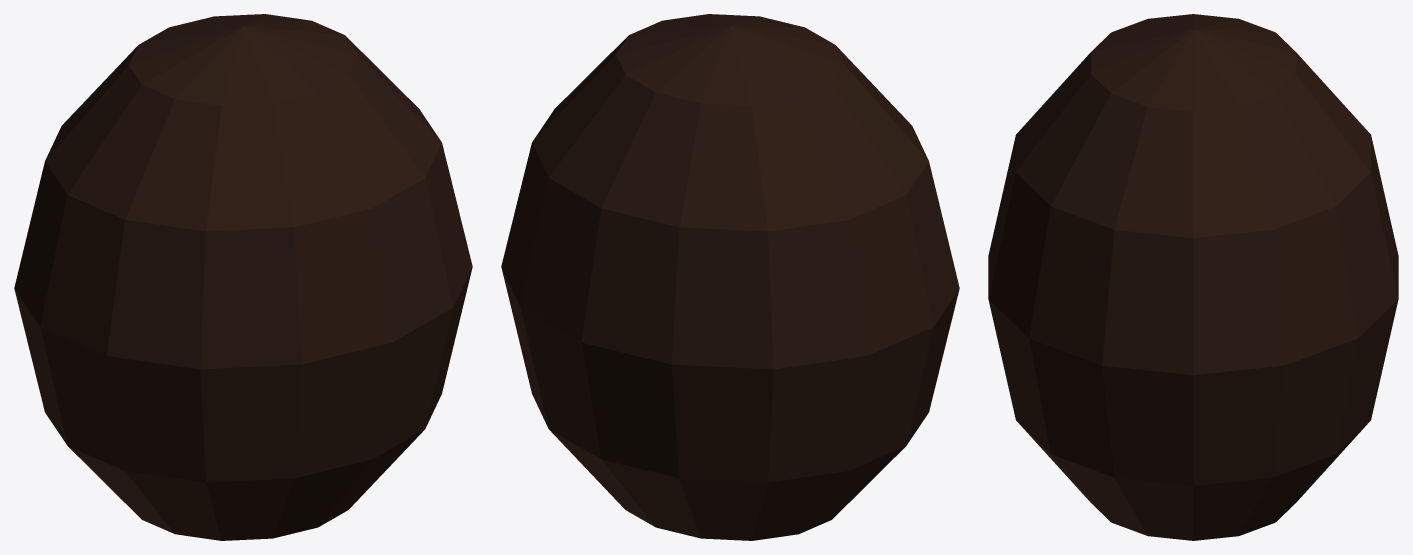
Rendered from Guard_Glove_R.obj.
3 views of the same model, side by side, from view 1: azimuth 30°, elevation 25°; view 2: azimuth 150°, elevation 25°; view 3: azimuth 270°, elevation 25° (orthographic).
Visible parts, largest first — view 1: Guard_Glove_R; view 2: Guard_Glove_R; view 3: Guard_Glove_R.
Part boxes in pixels (x1,y1,x2,y2): Guard_Glove_R: (14, 14, 472, 540); Guard_Glove_R: (501, 14, 959, 540); Guard_Glove_R: (988, 14, 1398, 540).
Bounding box in the file's own units: 0.22 × 0.26 × 0.195.
